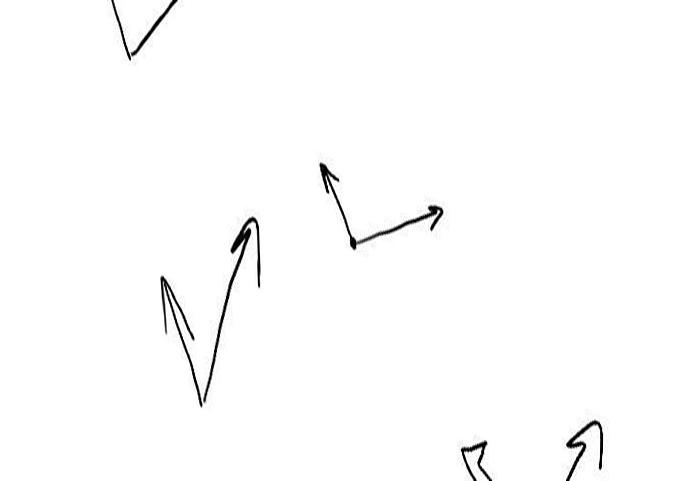arrow: (204, 216, 261, 397), (158, 274, 203, 404), (355, 203, 446, 241), (563, 419, 604, 479), (319, 165, 351, 235)
arrownohead: (131, 1, 177, 55), (111, 1, 130, 59)
